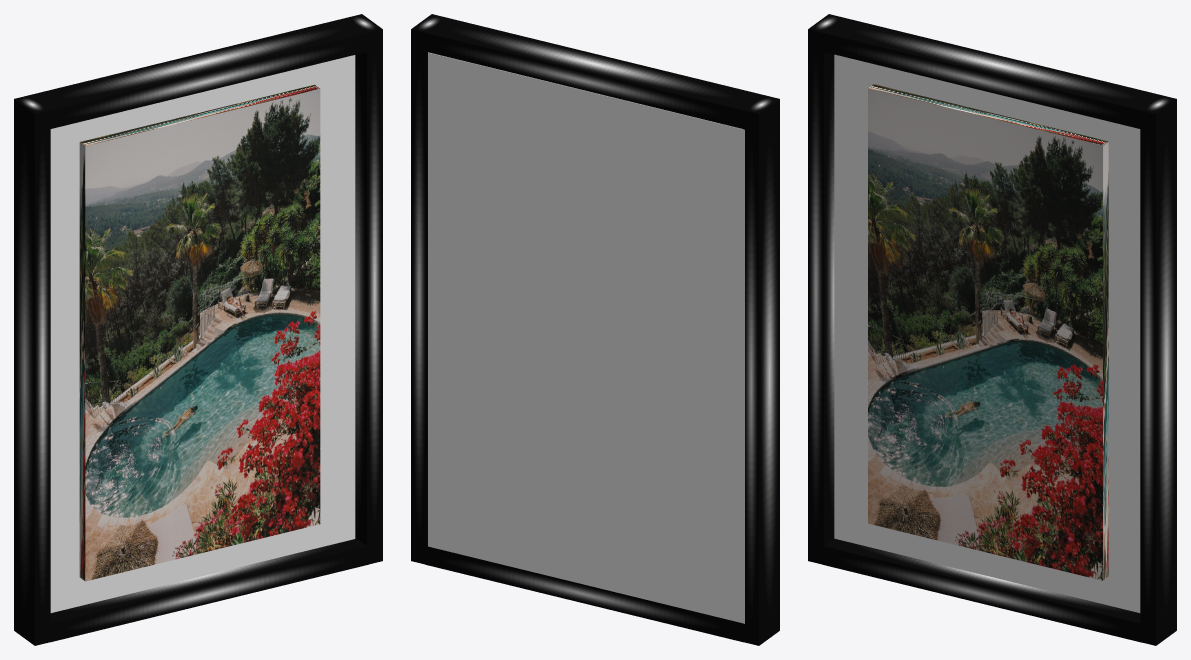
File: frame-image1.glb
The picture shows the model from 3 angles, left to right: view 1: azimuth 30°, elevation 25°; view 2: azimuth 150°, elevation 25°; view 3: azimuth 330°, elevation 25°; orthographic projection.
Visible parts, largest first — view 1: image, Cube, Cube (4), Cube (1), Cube (3), Cube (2); view 2: Cube, Cube (4), Cube (3), Cube (1), Cube (2); view 3: image, Cube, Cube (1), Cube (4), Cube (3), Cube (2).
Part boxes in pixels (bbox=[...]): image: bbox=[79, 84, 320, 581]; Cube: bbox=[50, 55, 355, 612]; Cube (4): bbox=[14, 95, 50, 645]; Cube (1): bbox=[347, 14, 382, 564]; Cube (3): bbox=[30, 17, 367, 128]; Cube (2): bbox=[50, 538, 366, 641]; Cube: bbox=[428, 52, 744, 623]; Cube (4): bbox=[744, 95, 779, 645]; Cube (3): bbox=[425, 18, 763, 129]; Cube (1): bbox=[411, 14, 447, 564]; Cube (2): bbox=[425, 546, 743, 642]; image: bbox=[868, 84, 1108, 580]; Cube: bbox=[834, 54, 1140, 612]; Cube (1): bbox=[1140, 95, 1176, 645]; Cube (4): bbox=[808, 14, 843, 564]; Cube (3): bbox=[824, 18, 1160, 128]; Cube (2): bbox=[824, 538, 1141, 642].
Bounding box in the file's own units: 193 × 282 × 20.01.
3 materials, 2 textured.
